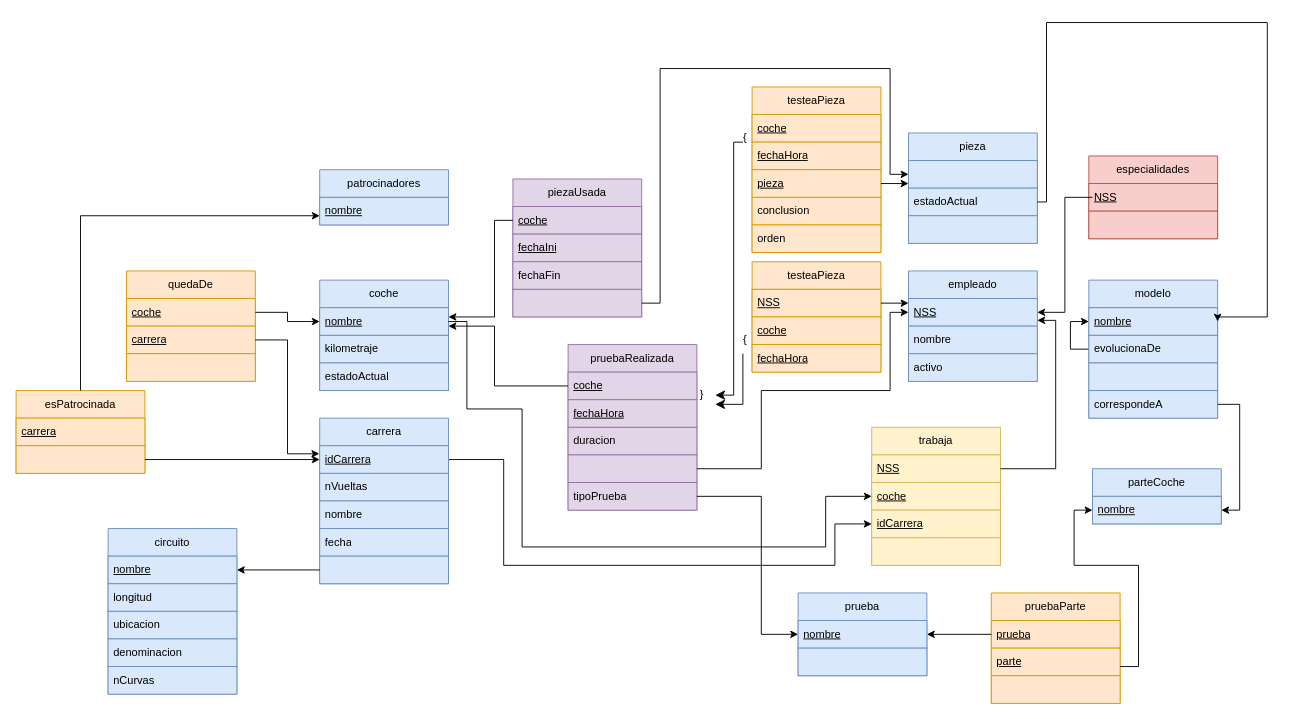
The diagram is 1291 pixels wide and 719 high, and some of its shapes have lost their labels. Each missing label, with the centre of its shape:
descripcion: the point at 862,661
dirigidaPor: the point at 632,468
especialidad: the point at 1153,224
esUsada: the point at 577,302
funcion: the point at 935,551
hechaModelando: the point at 972,229
idPieza: the point at 972,174
nuevasPopiedades: the point at 1153,376
patrocinador: the point at 80,459
posicion: the point at 190,367
prioridad: the point at 1055,689
situadaEn: the point at 383,569
